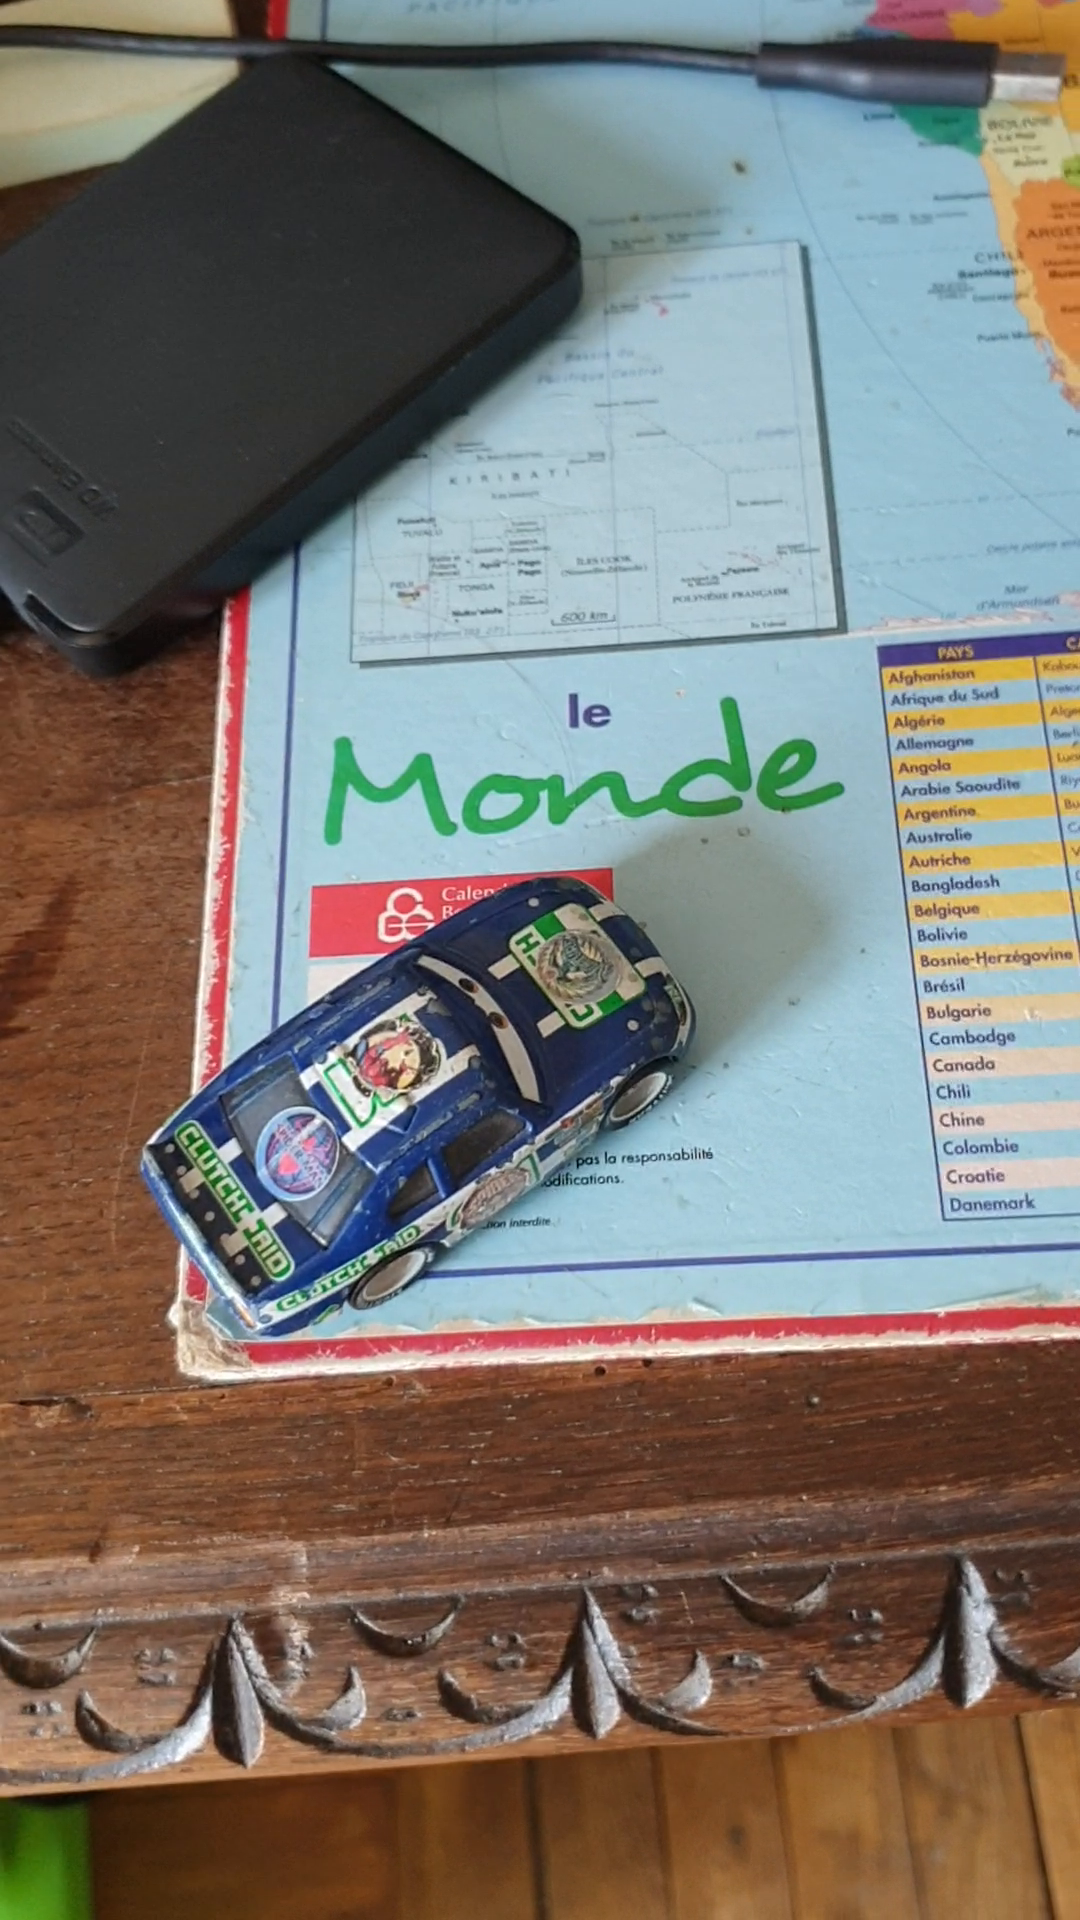cars: (135, 874, 704, 1332)
